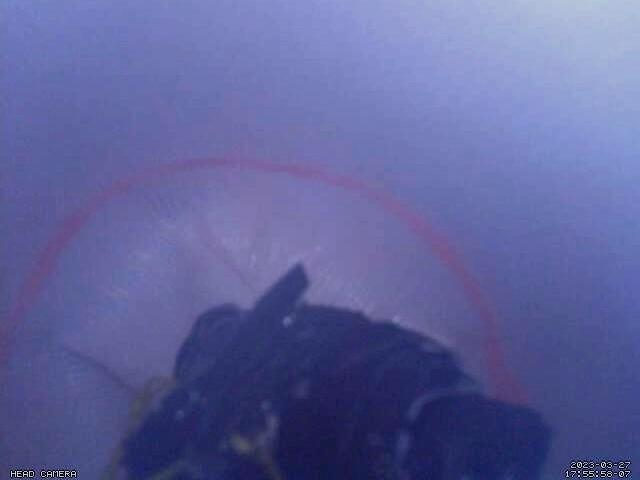head: (1, 154, 530, 406)
